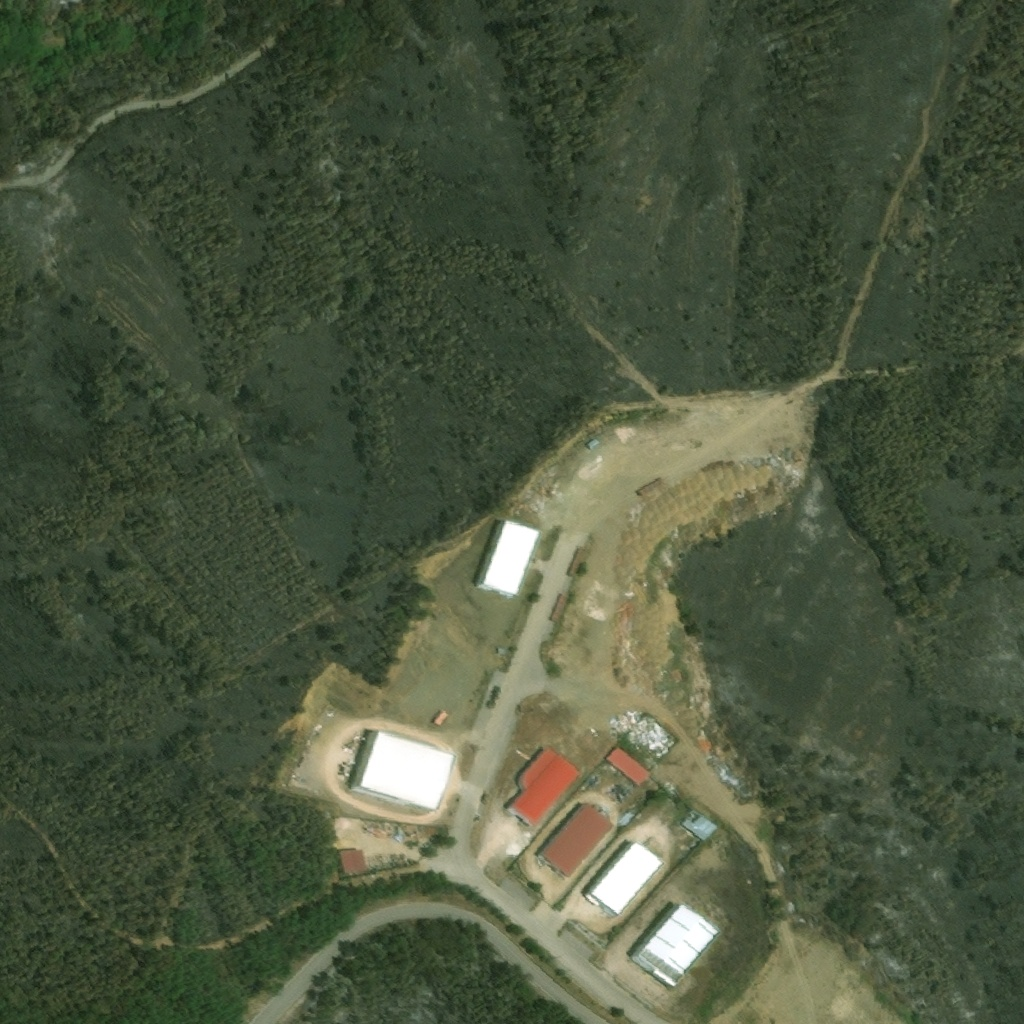0 no-damage: (349, 731, 456, 814), (632, 904, 720, 987), (584, 842, 664, 918), (506, 749, 580, 829), (535, 803, 612, 879), (474, 521, 540, 598), (604, 746, 651, 787), (678, 810, 718, 843), (339, 850, 367, 877), (432, 711, 448, 727), (585, 439, 599, 451)
